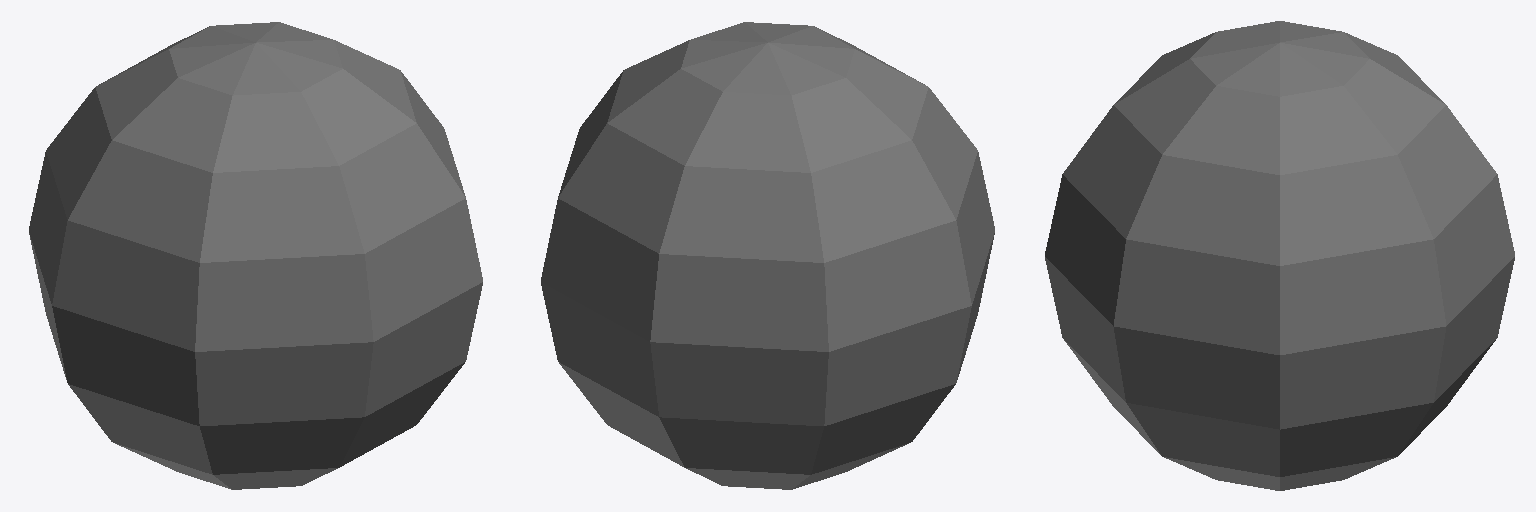
The model's file is area51_tower_satelliteRing_d1.obj.
The picture shows the model from 3 angles: view 1: azimuth 30°, elevation 25°; view 2: azimuth 150°, elevation 25°; view 3: azimuth 270°, elevation 25°; orthographic projection.
Parts seen in each view (by area): view 1: pasted__forcefield group1; view 2: pasted__forcefield group1; view 3: pasted__forcefield group1.
Boxes of the visible parts, x1=… form: pasted__forcefield group1: x1=29, y1=22, x2=482, y2=489; pasted__forcefield group1: x1=541, y1=22, x2=994, y2=489; pasted__forcefield group1: x1=1045, y1=21, x2=1514, y2=490.
Bounding box in the file's own units: 10.55 × 10.55 × 10.55.